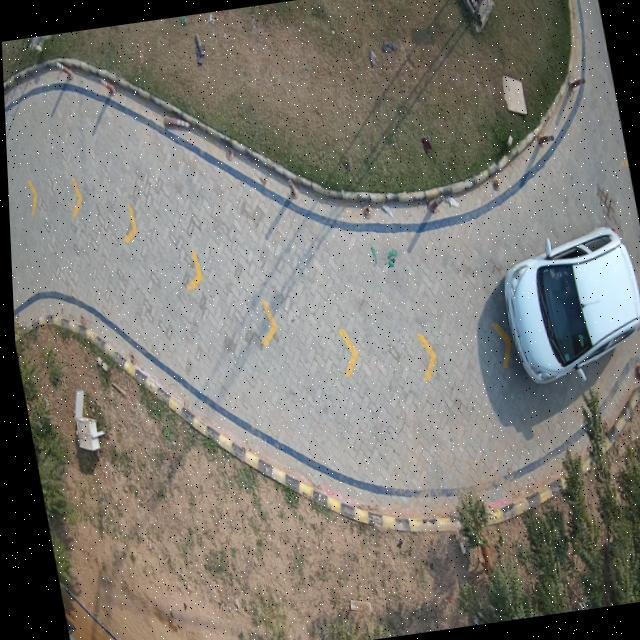car: (502, 229, 639, 385)
